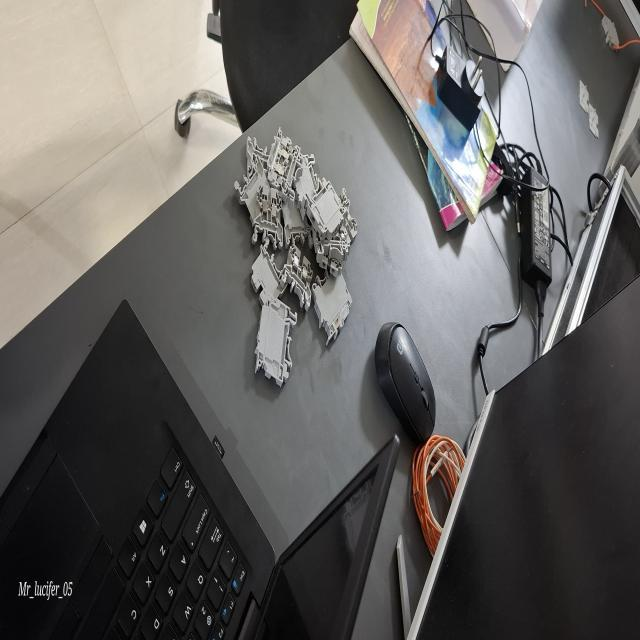Inverted: (250, 243, 283, 307)
Pass: (250, 182, 286, 250), (282, 244, 312, 313)
